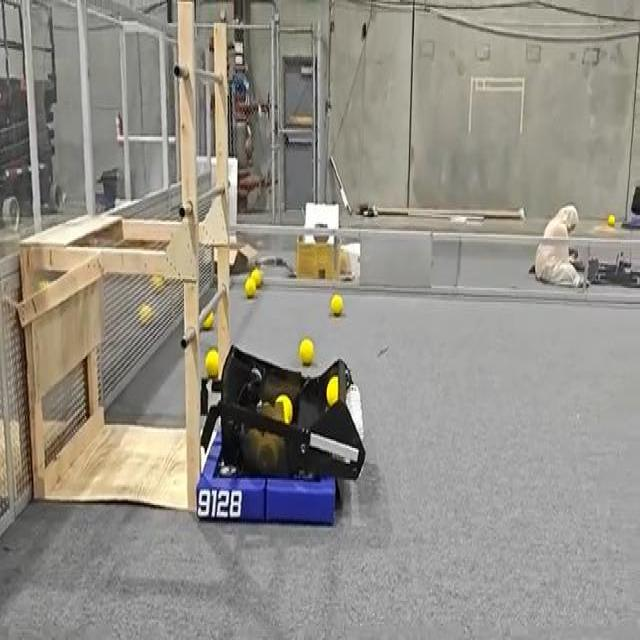Fuel: (276, 395, 293, 426), (204, 349, 220, 378), (204, 348, 219, 378), (276, 395, 292, 423), (326, 376, 340, 406), (299, 338, 314, 365), (299, 338, 313, 364), (326, 375, 338, 405), (330, 294, 343, 315), (330, 293, 342, 315), (139, 304, 152, 324), (244, 275, 255, 297), (250, 267, 262, 286), (139, 304, 151, 322), (202, 312, 214, 330), (245, 276, 255, 296), (202, 311, 213, 329), (251, 269, 262, 287), (152, 275, 164, 291), (151, 274, 163, 288), (607, 215, 614, 226), (608, 215, 615, 226)
